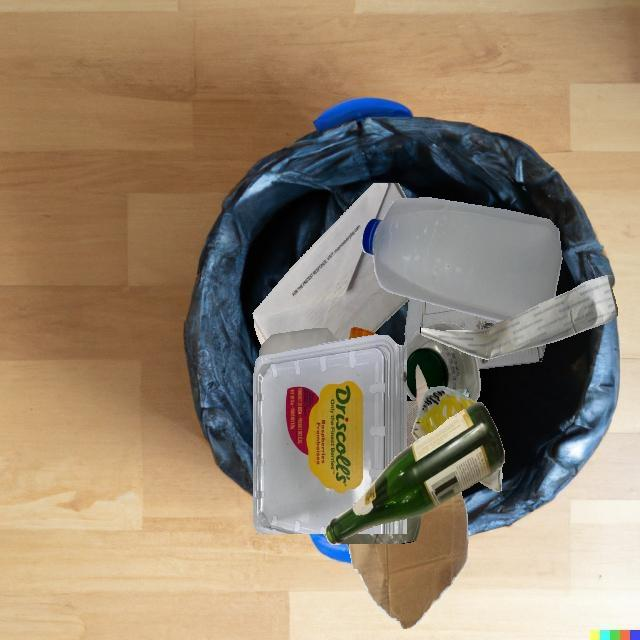cardboard: (349, 492, 468, 629), (404, 298, 500, 347), (476, 344, 546, 369)
glass: (325, 402, 505, 544), (412, 386, 476, 441), (333, 515, 421, 544), (346, 544, 349, 550)
paper: (252, 183, 410, 341), (420, 275, 618, 359), (407, 364, 429, 448), (254, 322, 266, 345)
plastic: (253, 335, 407, 534), (362, 197, 562, 322), (406, 329, 481, 402), (259, 328, 343, 357), (348, 327, 377, 339)
